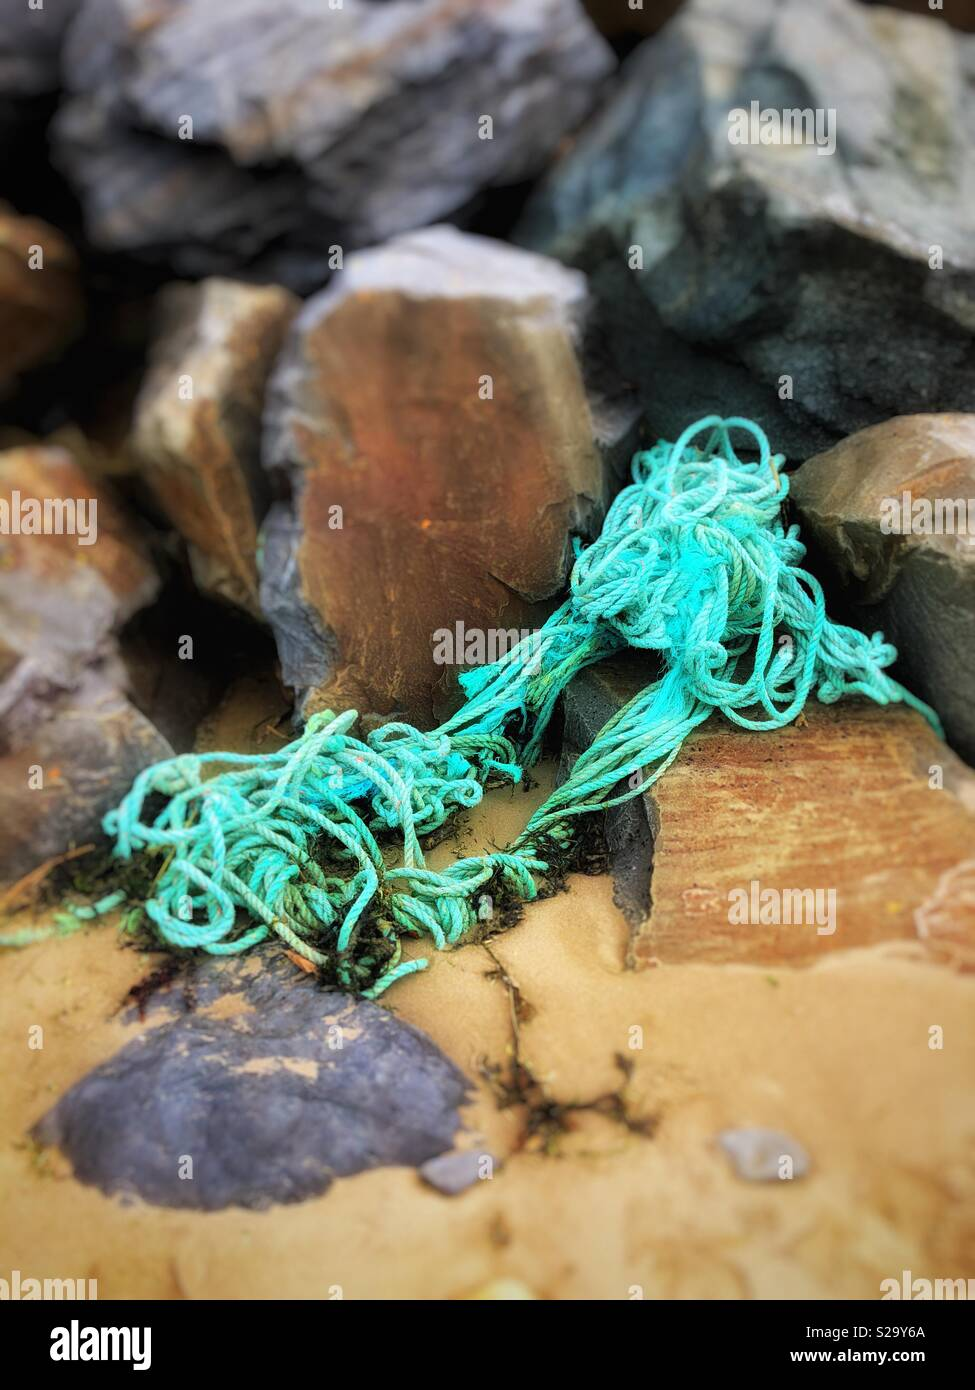fishingnet: (99, 406, 935, 1002)
